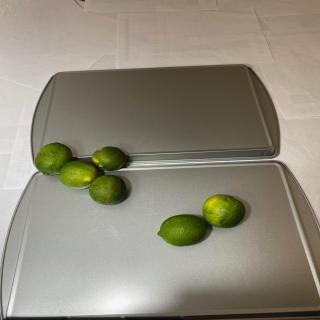Lemon: (158, 214, 208, 247), (202, 194, 246, 228), (33, 142, 73, 176), (59, 160, 99, 190), (88, 175, 126, 205), (92, 146, 126, 171)
